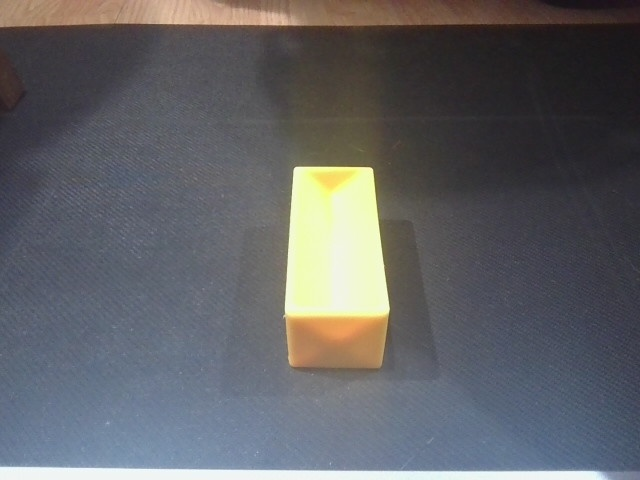YellowSample: (279, 160, 391, 373)
